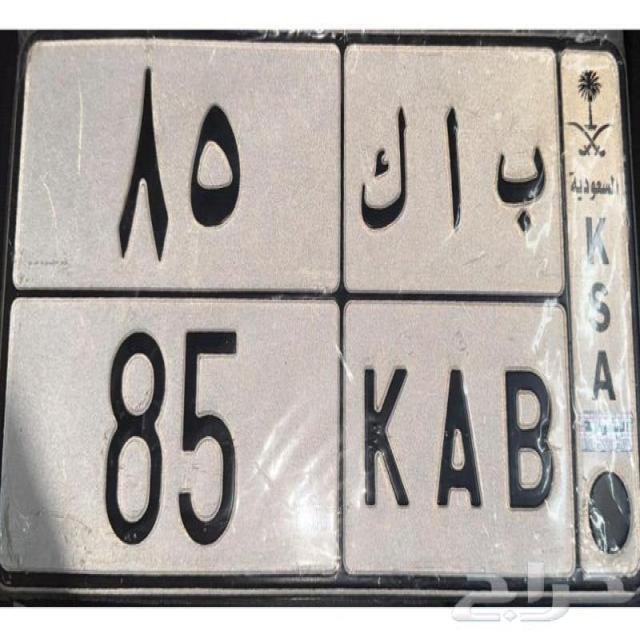license_plate: (4, 290, 586, 590)
